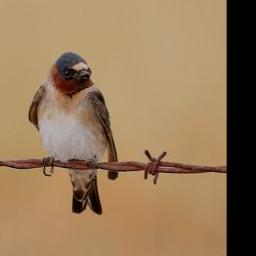Swallow: (28, 50, 119, 216)
